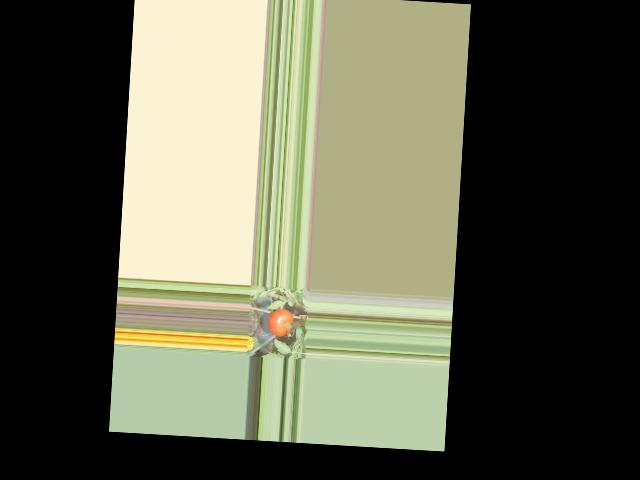tomato: (267, 307, 294, 337)
